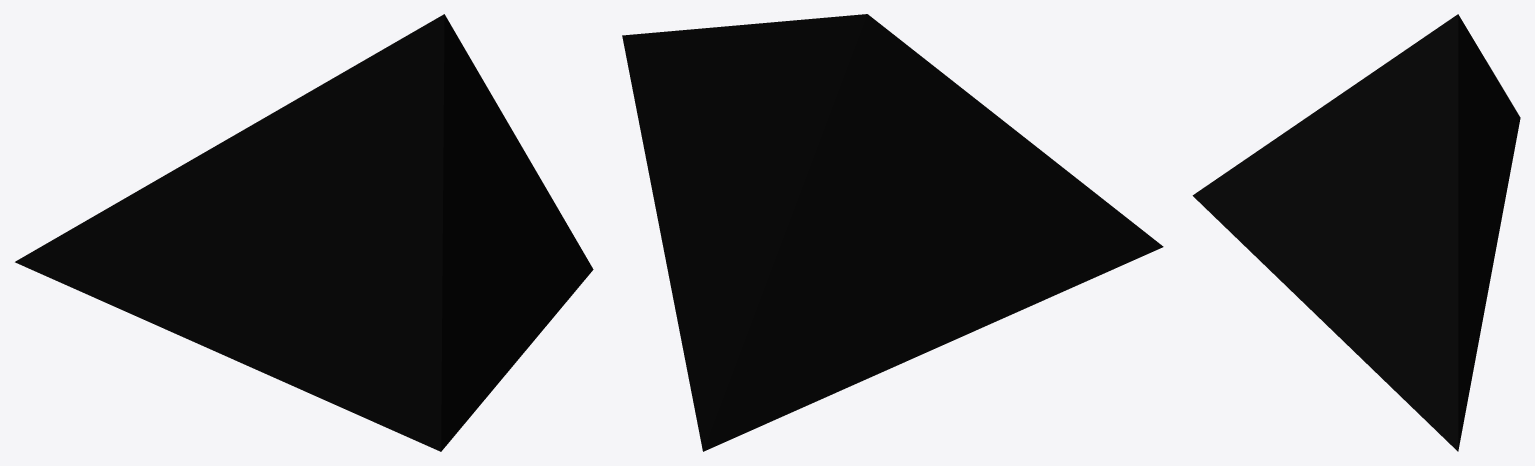
The picture shows the model from 3 angles, left to right: view 1: azimuth 30°, elevation 25°; view 2: azimuth 150°, elevation 25°; view 3: azimuth 270°, elevation 25°; orthographic projection. The views are drawn at different scales.
Size of the model in its own units: 0.0801 by 0.0661 by 0.0561.
Materials: 1 (1 with a texture image).
